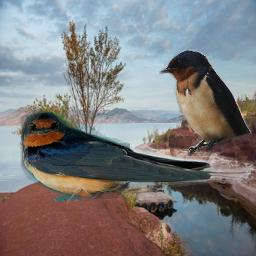Swallow: (16, 107, 251, 201), (159, 49, 252, 156)
